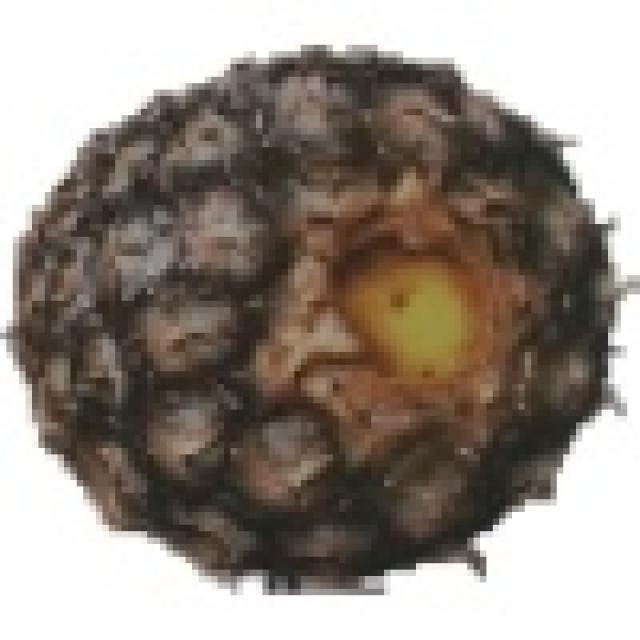pineapple: (6, 38, 602, 576)
